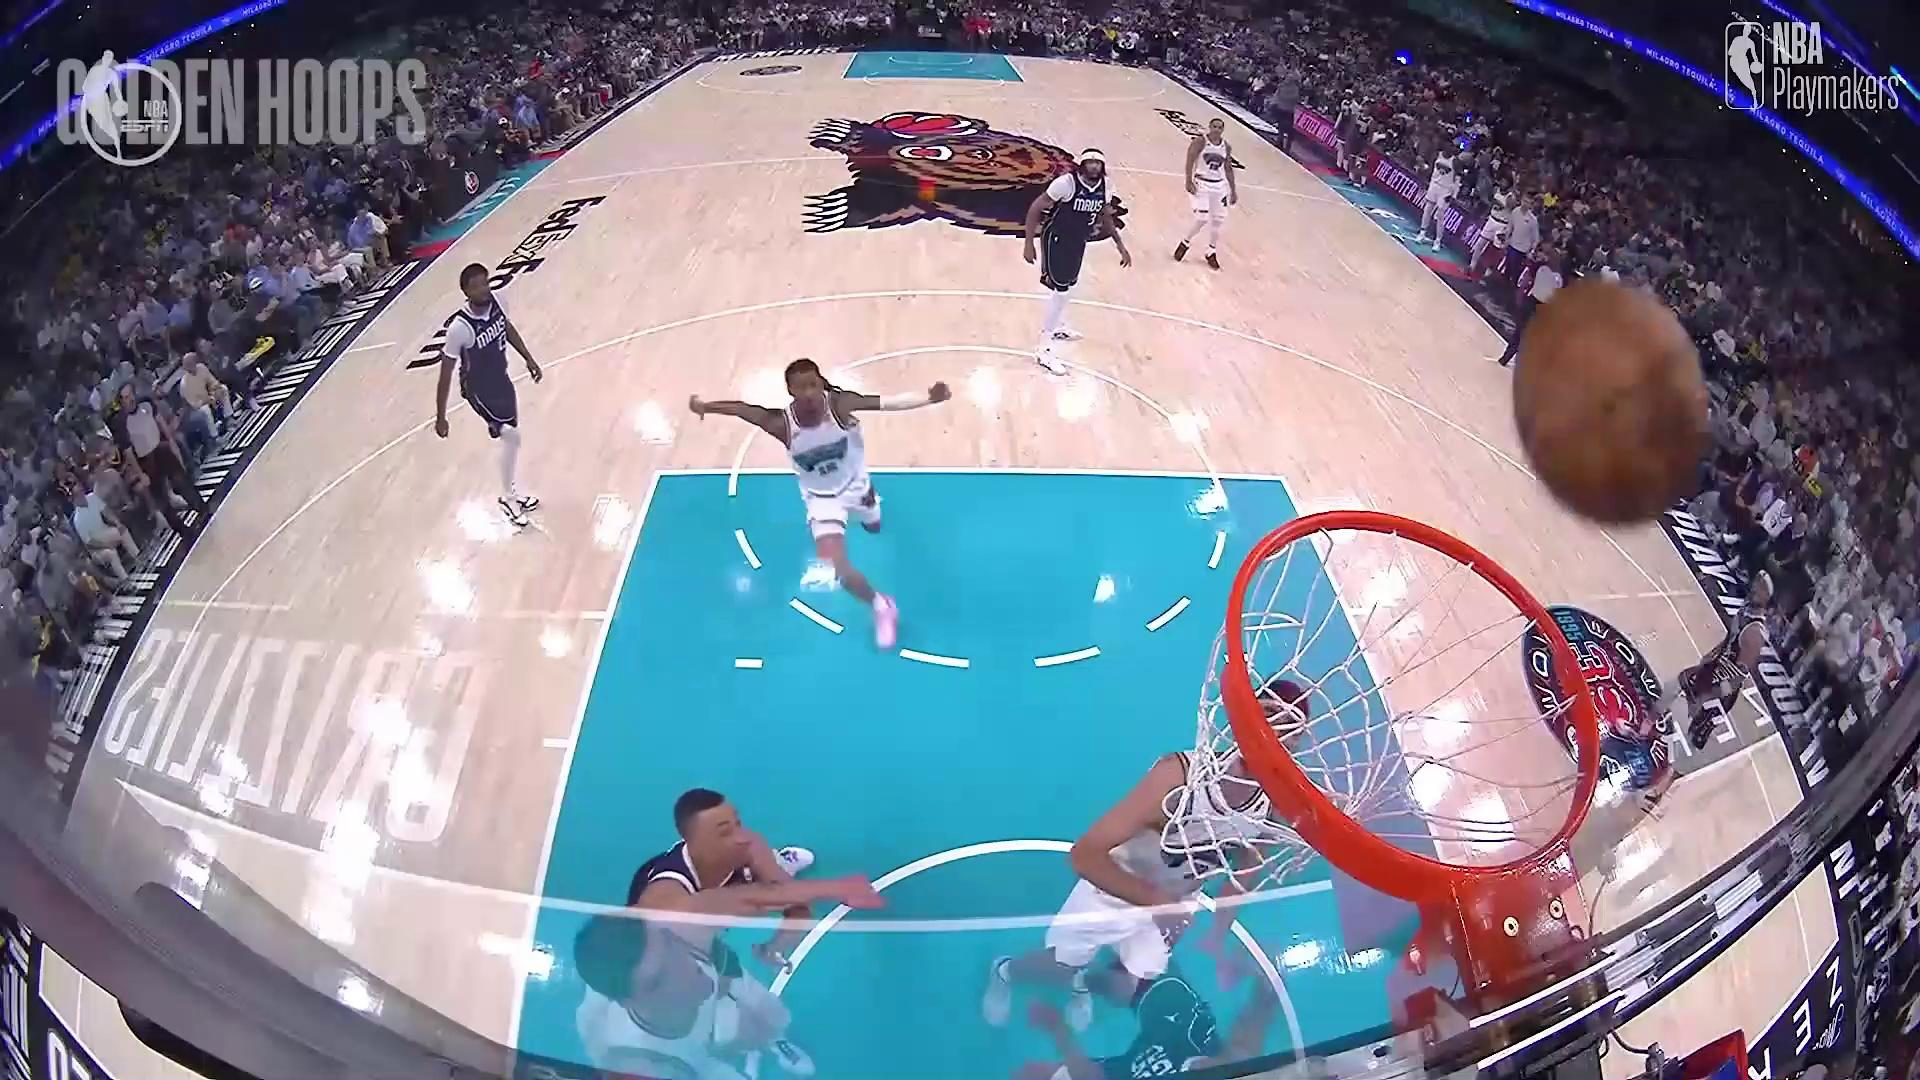ball: (1506, 286, 1713, 542)
hoop: (1160, 505, 1607, 901)
